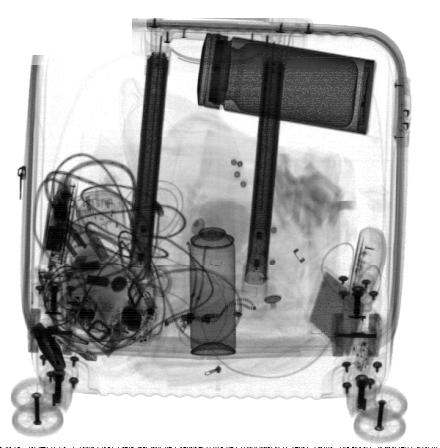Lighter: (32, 321, 67, 374)
Powerbank: (303, 264, 384, 381)
Sprayer: (188, 197, 236, 357)
